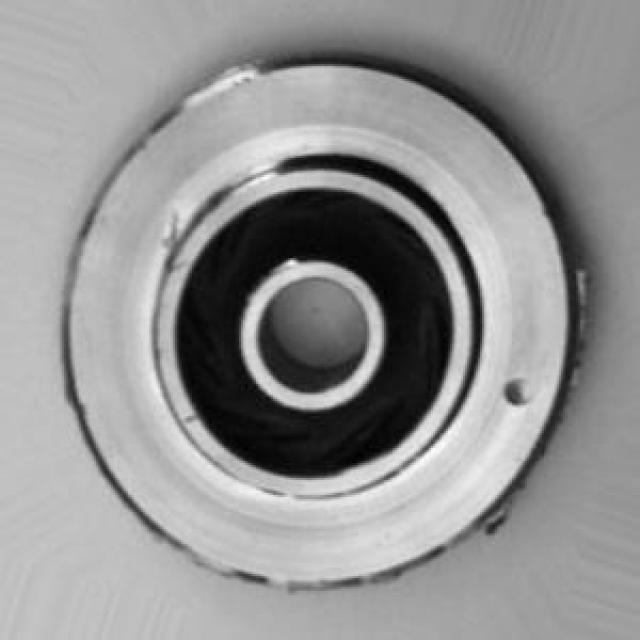Defect: (155, 207, 187, 274), (508, 366, 540, 423)
